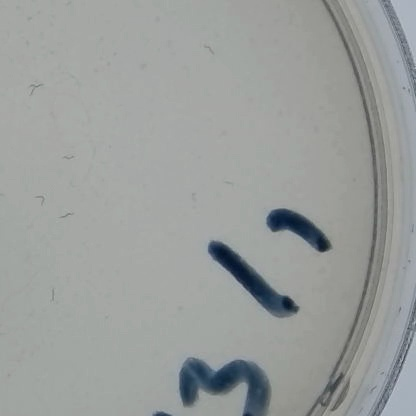worm: (43, 274, 67, 304), (180, 187, 200, 213), (201, 35, 221, 59), (23, 81, 44, 101), (0, 315, 18, 338), (54, 206, 79, 220), (68, 69, 91, 84), (32, 191, 49, 210), (217, 176, 241, 189), (59, 150, 79, 162), (0, 187, 10, 200)
